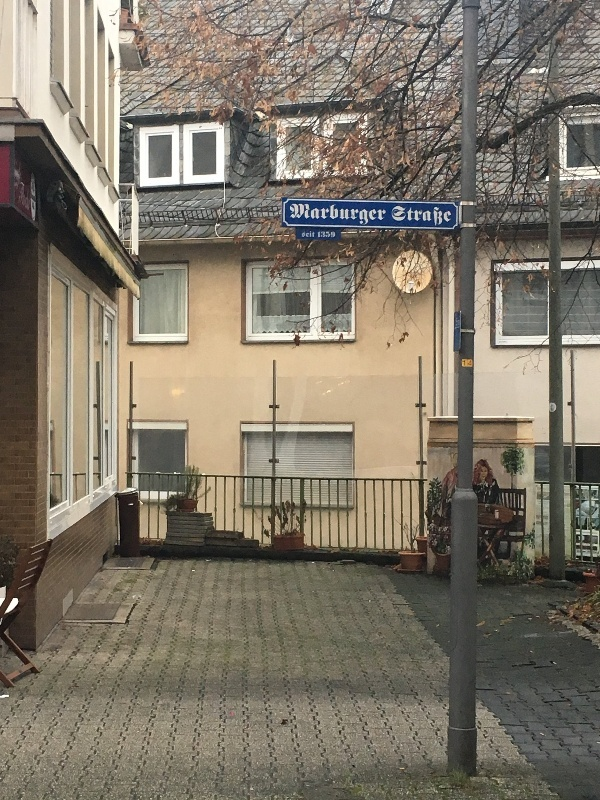text: (20, 182, 32, 211), (305, 203, 320, 226), (321, 203, 336, 226), (337, 203, 352, 226), (353, 203, 368, 226), (369, 203, 384, 226), (290, 203, 304, 226), (401, 207, 416, 227), (417, 207, 432, 227), (433, 207, 448, 227), (390, 207, 400, 227), (321, 231, 335, 238), (456, 317, 464, 327), (305, 231, 316, 238), (449, 207, 452, 227), (465, 361, 473, 367), (385, 203, 387, 226), (318, 231, 320, 238), (302, 231, 304, 238), (463, 361, 464, 367)
